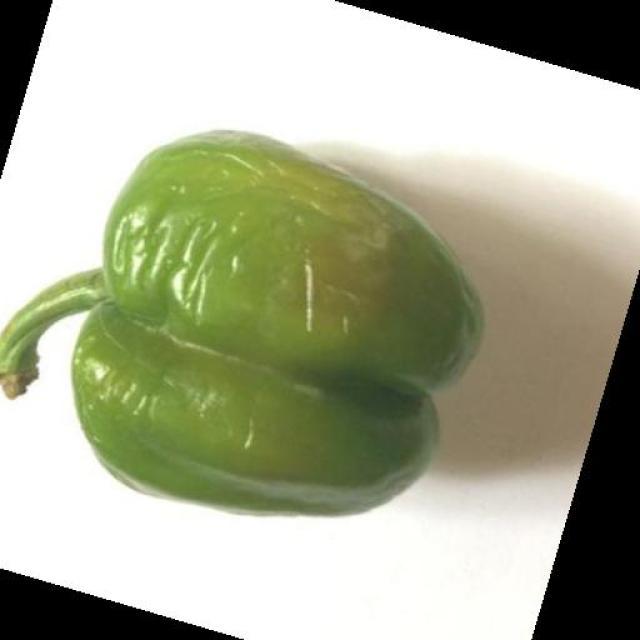Stale_Capsicum: (163, 144, 445, 499)
